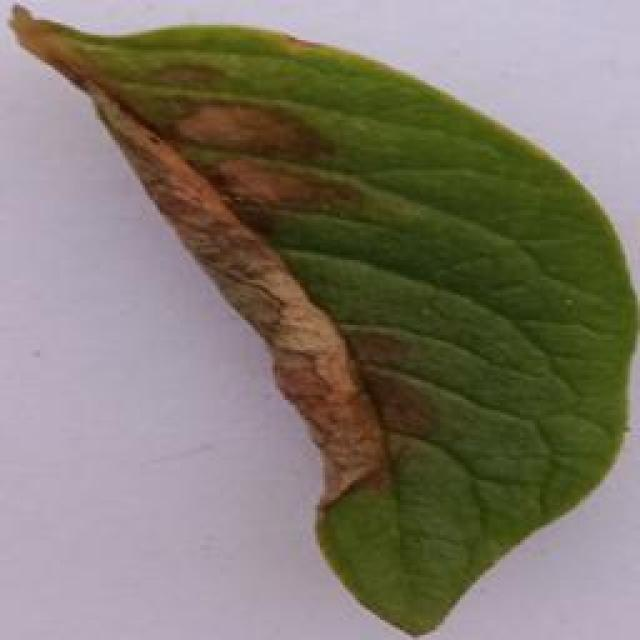Potato_Late_Blight: (11, 8, 626, 635)
